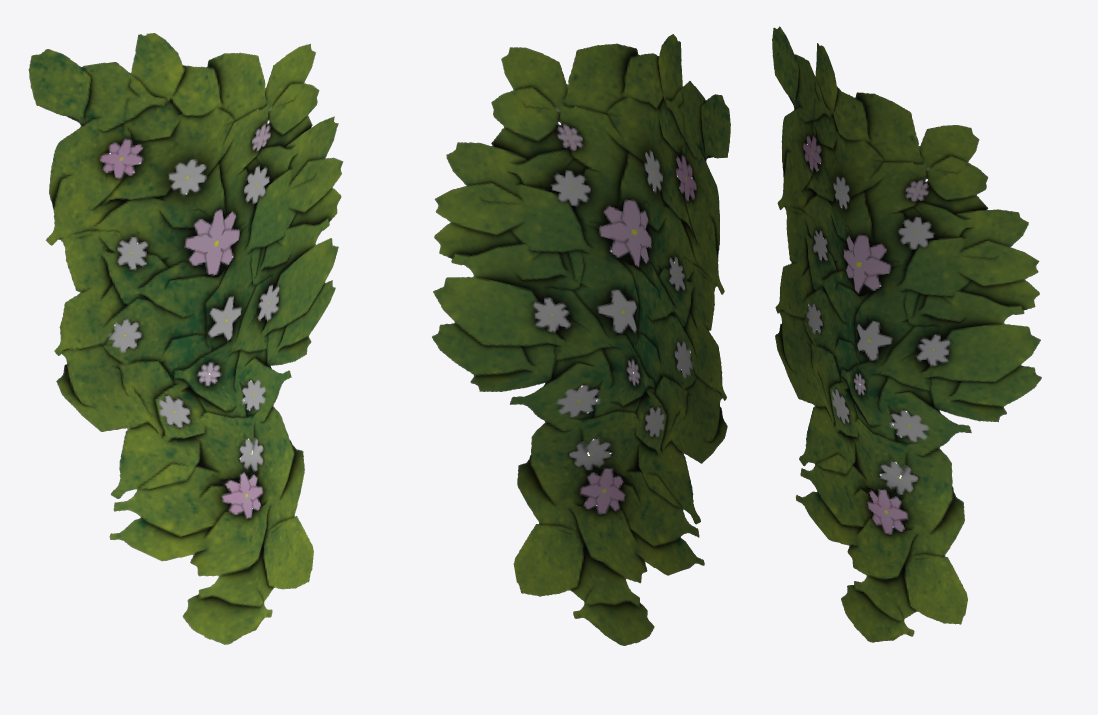
Rendered from Flowers_Bush_10.fbx.
3 renders of one model, left to right at view 1: azimuth 30°, elevation 25°; view 2: azimuth 150°, elevation 25°; view 3: azimuth 330°, elevation 25°, orthographic. The views are drawn at different scales.
Parts seen in each view (by area): view 1: Flowers_Bush_10; view 2: Flowers_Bush_10; view 3: Flowers_Bush_10.
Part boxes in pixels (x1,y1,x2,y2): Flowers_Bush_10: (28,33,343,644); Flowers_Bush_10: (432,34,730,645); Flowers_Bush_10: (772,26,1041,642).
Bounding box in the file's own units: 1.63 × 3.1 × 0.4343.
